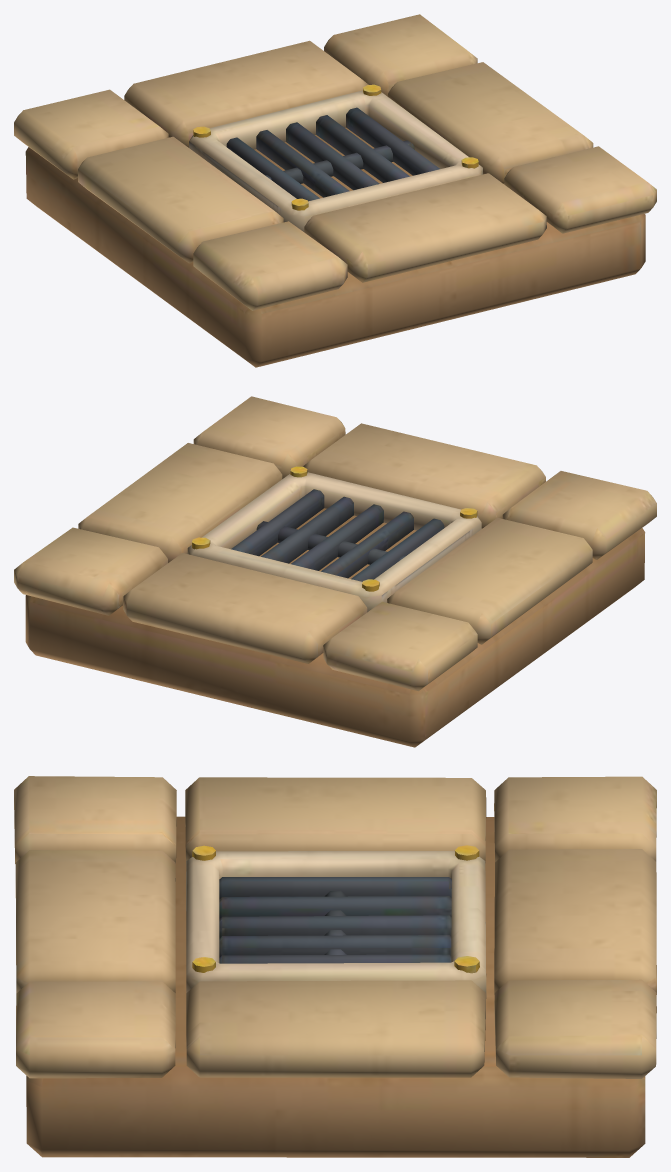
File: dry-drain.glb
The picture shows the model from 3 angles, top to bottom: view 1: azimuth 30°, elevation 25°; view 2: azimuth 150°, elevation 25°; view 3: azimuth 270°, elevation 25°; orthographic projection. The views are drawn at different scales.
Parts seen in each view (by area): view 1: dry-drain; view 2: dry-drain; view 3: dry-drain.
Boxes of the visible parts, x1,y1,x2,y2 form: dry-drain: [14, 14, 656, 367]; dry-drain: [14, 396, 656, 747]; dry-drain: [14, 776, 656, 1157].
Bounding box in the file's own units: 0.8303 × 0.1833 × 0.8316.
Materials: 6 (6 with a texture image).
